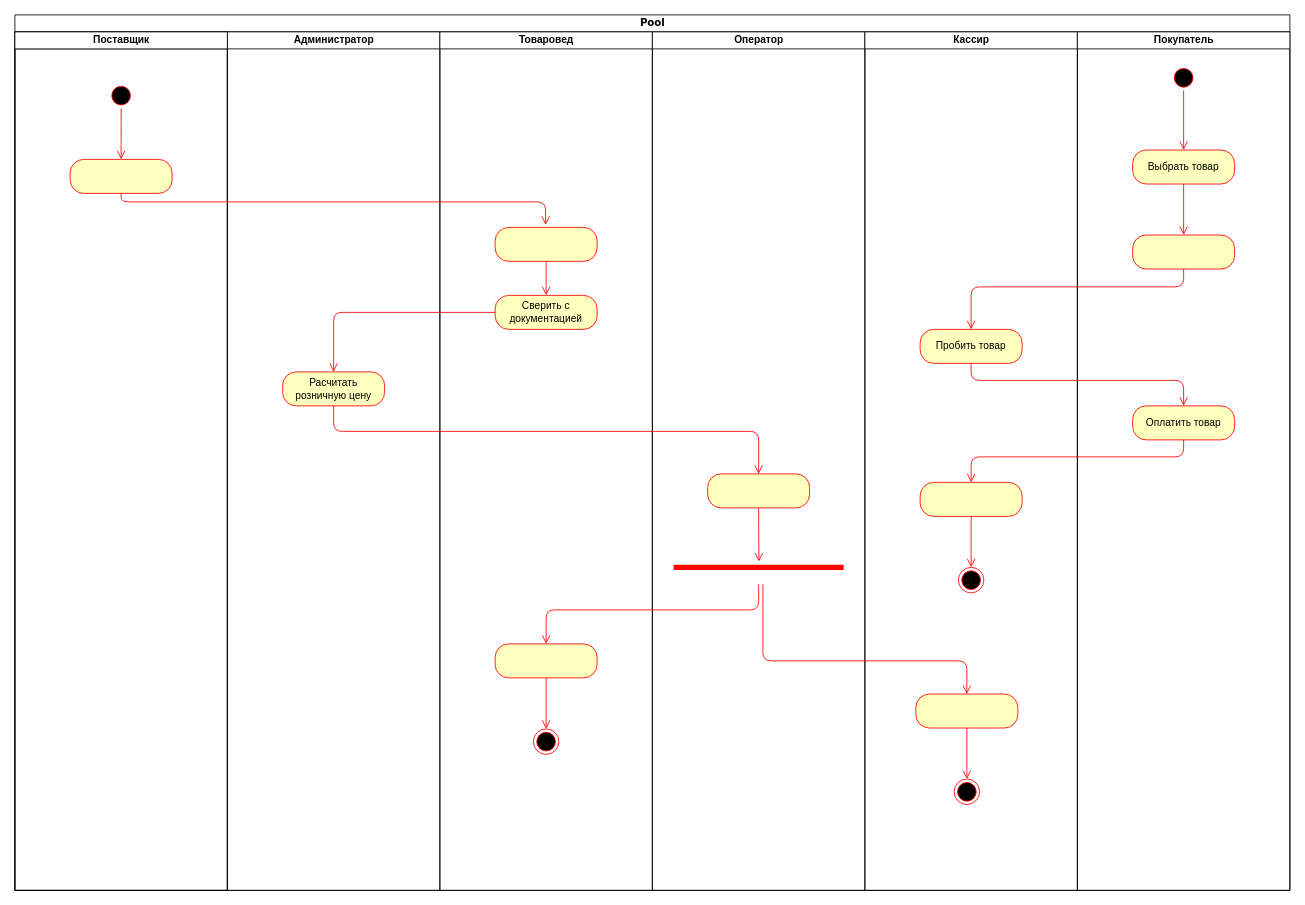
The diagram is 1305 pixels wide and 905 high, and some of its shapes have lost their labels. Here are the shapes that lost their labels. From the top down, the centre of each, then its label:
At [120,176]: "Отправить партию товара".
At [545,244]: "Принять товар".
At [1183,251]: "Отнести товар на кассу".
At [758,490]: "Обработка штрихкодов".
At [970,499]: "Выдвть чек".
At [545,660]: "Составить товарный отчет".
At [966,710]: "Вынести товар в торговый зал".
